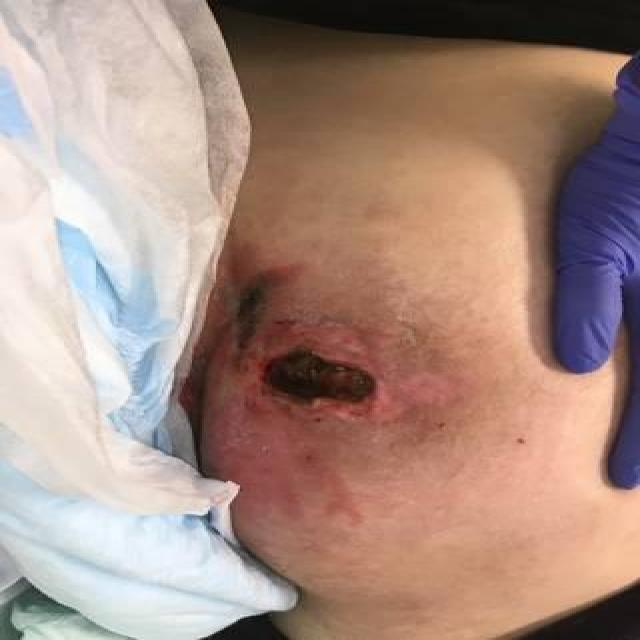Unstageable: (265, 350, 375, 401), (232, 284, 271, 355)
